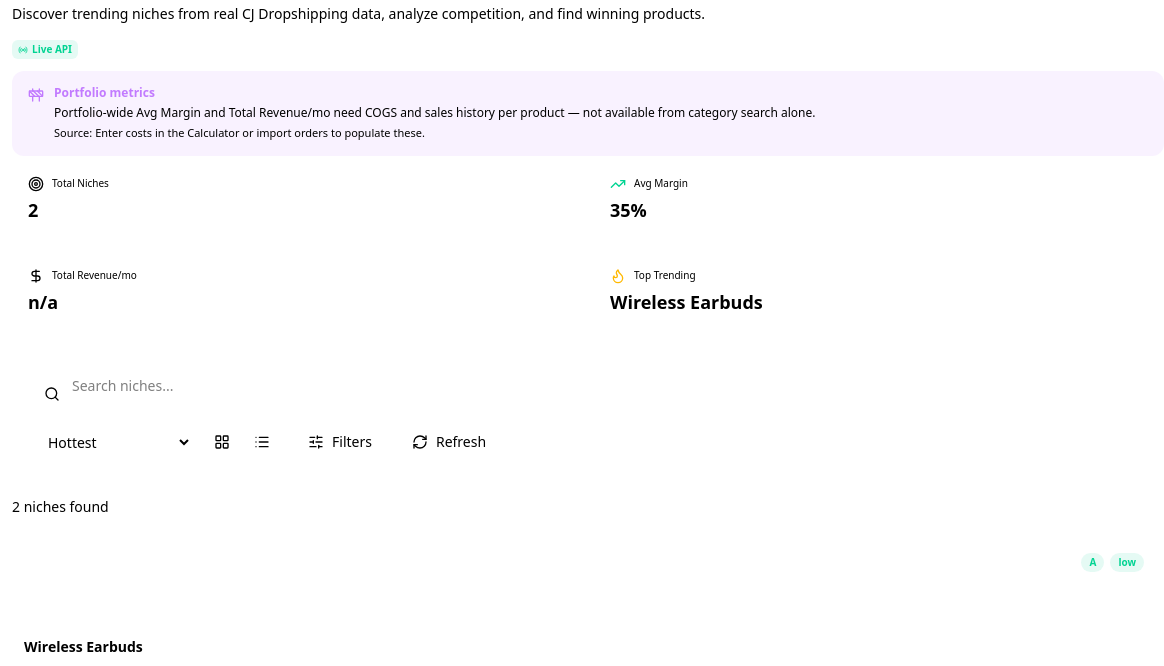
Scenario: NichesPage › filters niches by search term
The image size is (1164, 666).
Type "yoga" into the field with placeholder "Search niches...".
click(588, 386); type("yoga")  # box [28,364,1148,408]
(page scrolled)
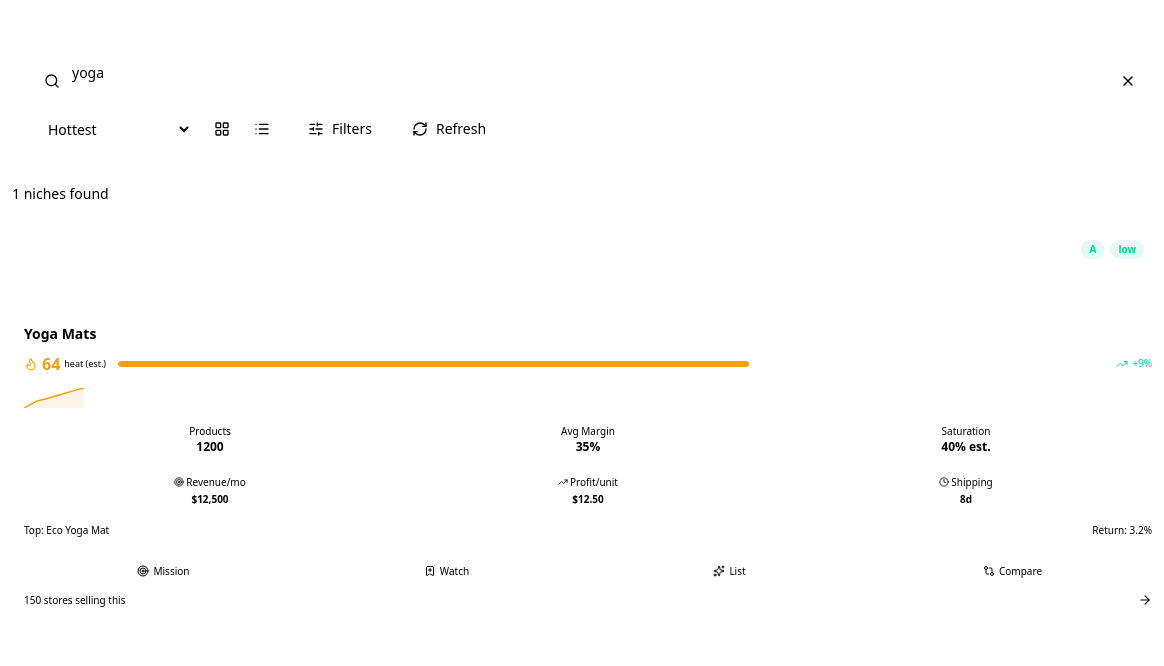
Expected: the text "Top: Eco Yoga Mat" is shown, [24,522,109,538]
Expected: the text "1 niches found" is shown, [12,184,109,202]
